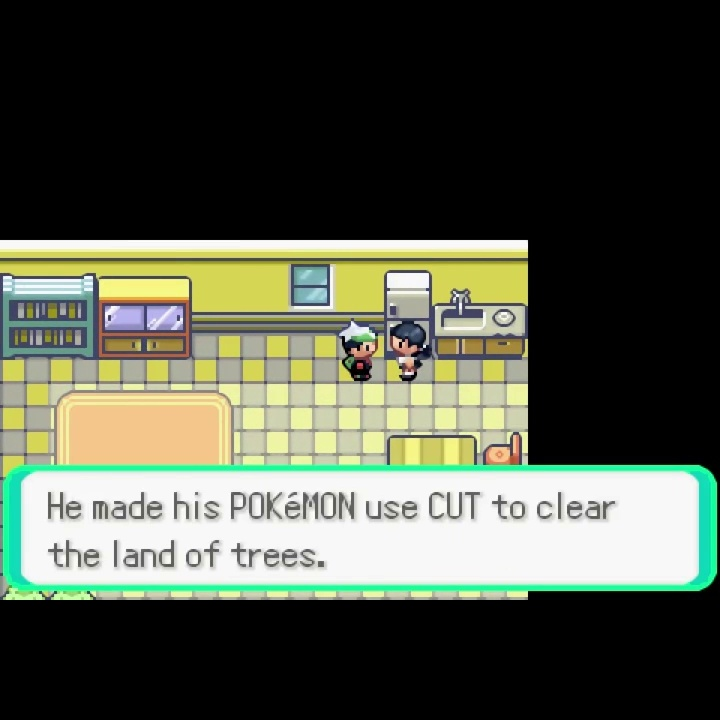agent: (338, 317, 382, 385)
npc: (386, 318, 433, 384)
